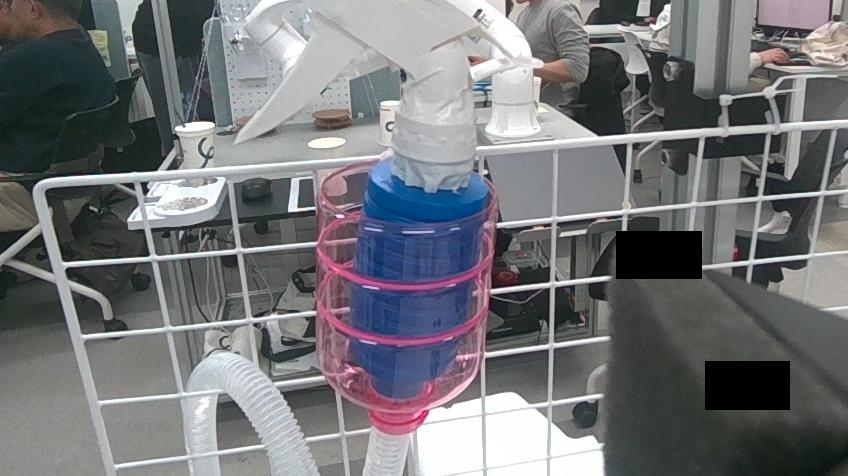Nozzle: (205, 0, 526, 381)
